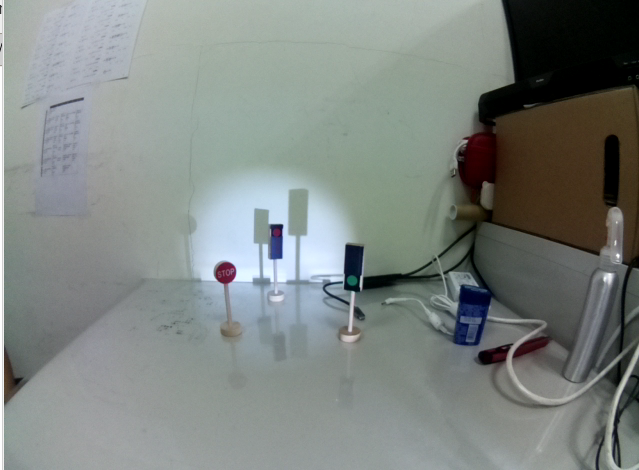Green: (342, 242, 366, 294)
Red: (268, 223, 285, 263)
Stop: (211, 258, 240, 286)
